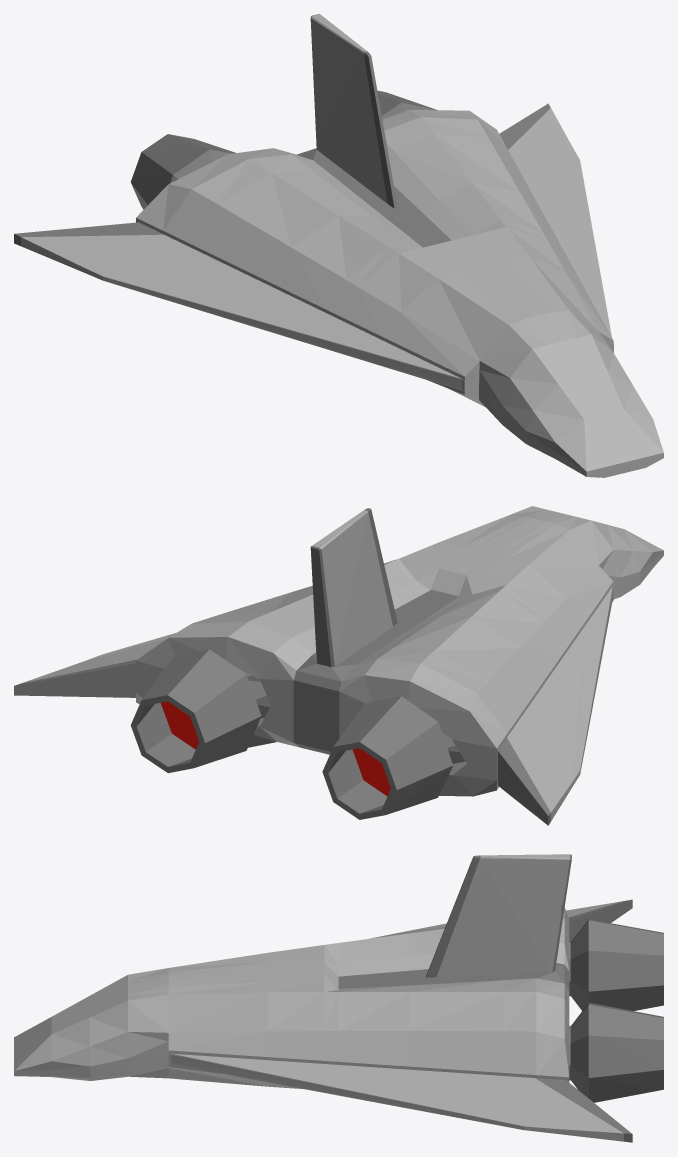
File: player.obj
The picture shows the model from 3 angles, top to bottom: view 1: azimuth 30°, elevation 25°; view 2: azimuth 150°, elevation 25°; view 3: azimuth 270°, elevation 25°; orthographic projection. The views are drawn at different scales.
Parts seen in each view (by area): view 1: 平面.001; view 2: 平面.001; view 3: 平面.001.
Part boxes in pixels (x1=…): 平面.001: x1=14, y1=14, x2=663, y2=477; 平面.001: x1=14, y1=506, x2=663, y2=825; 平面.001: x1=14, y1=854, x2=663, y2=1142.
Size of the model in its own units: 2.12 by 0.8875 by 2.48.
